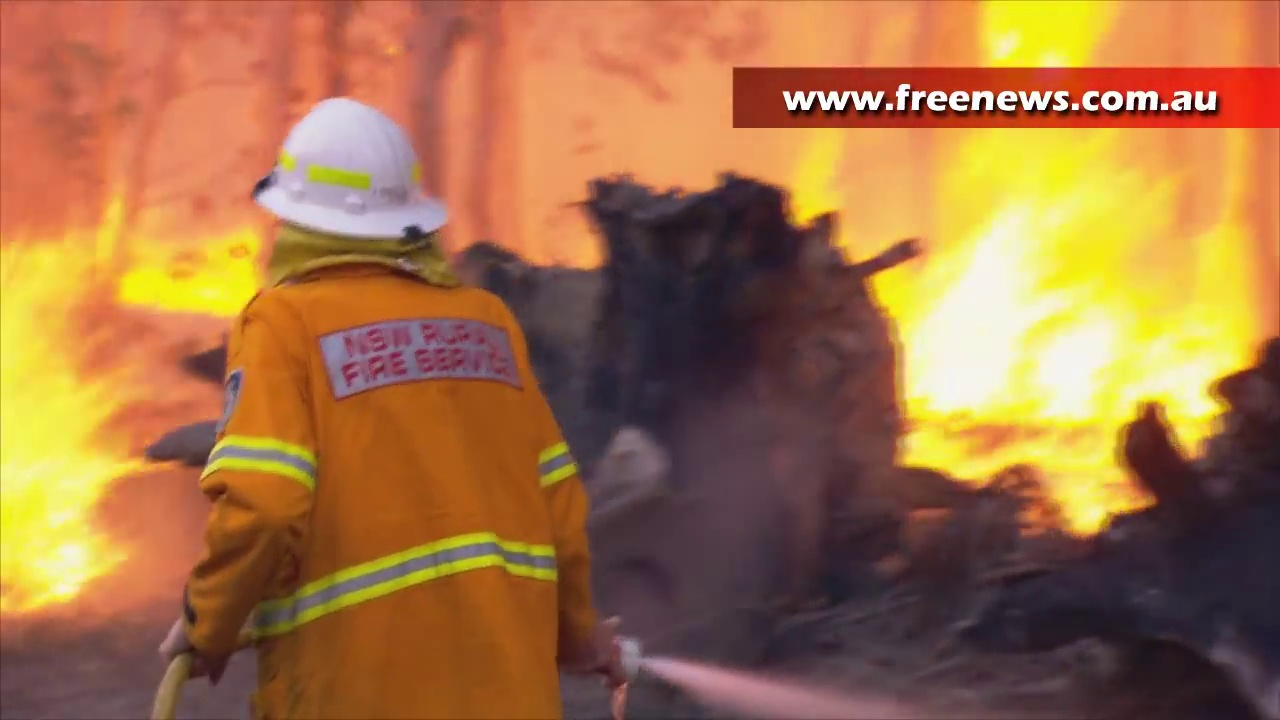fire: (896, 177, 1219, 521), (4, 291, 87, 602)
